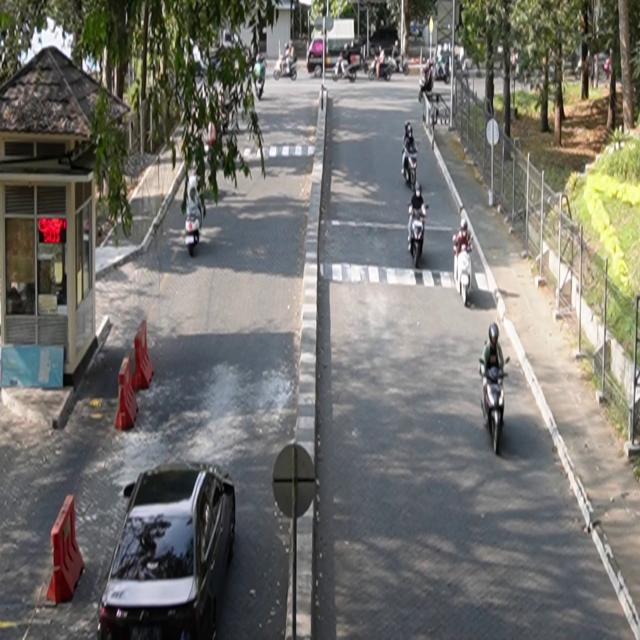car: (97, 462, 237, 640)
